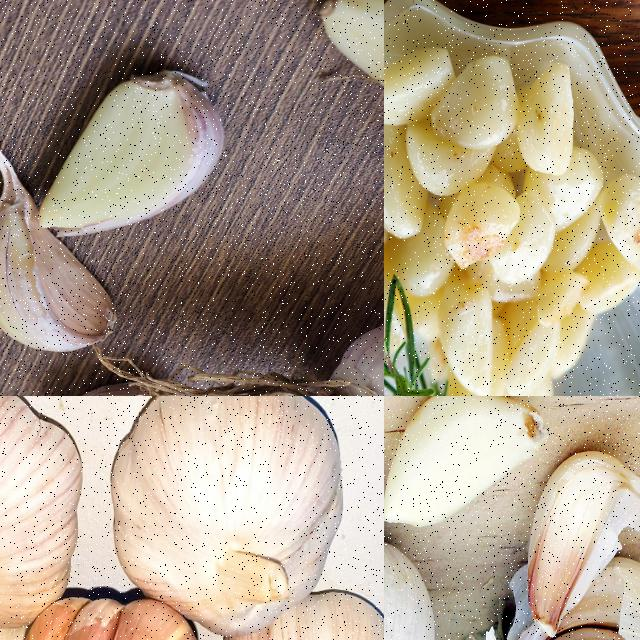garlic: (384, 51, 639, 395), (105, 396, 346, 639), (42, 66, 231, 231), (518, 444, 639, 633), (384, 396, 549, 526), (0, 396, 85, 633), (0, 200, 118, 362), (474, 558, 639, 639), (319, 0, 383, 114), (323, 312, 383, 395)
